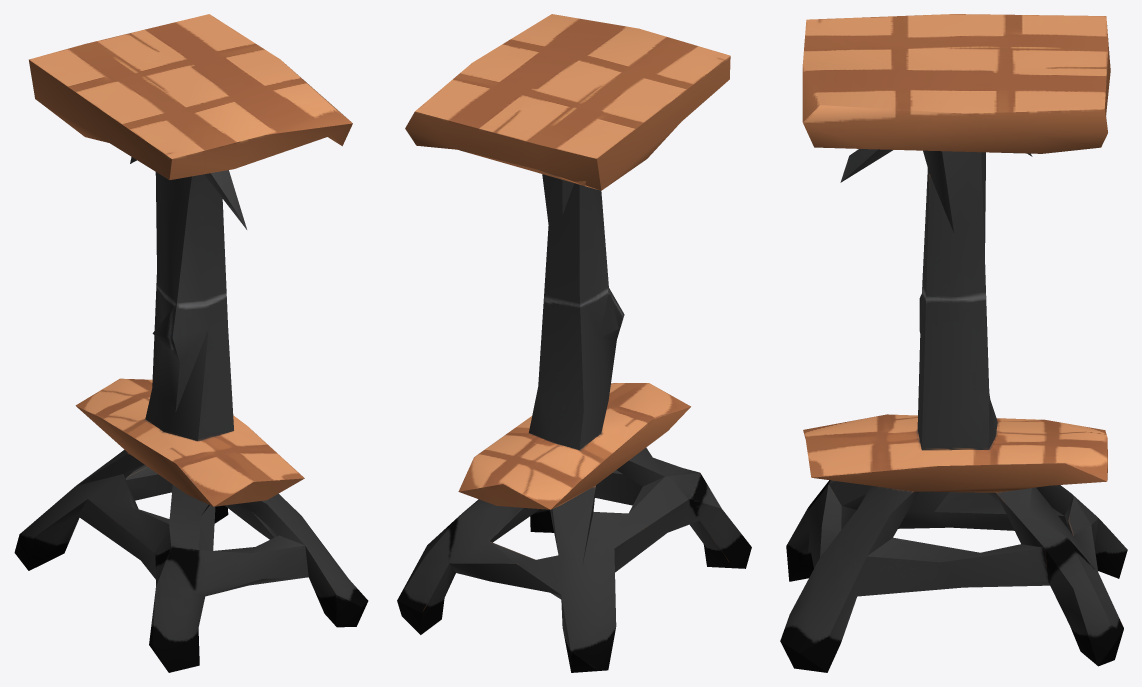
The model's file is brickloft-drafting-stool.glb.
3 renders of one model, left to right at view 1: azimuth 30°, elevation 25°; view 2: azimuth 150°, elevation 25°; view 3: azimuth 270°, elevation 25°, orthographic. The views are drawn at different scales.
Parts seen in each view (by area): view 1: geometry_0; view 2: geometry_0; view 3: geometry_0.
Boxes of the visible parts, box(x1,y1,x2,y2) form: geometry_0: box(14, 14, 368, 672); geometry_0: box(397, 14, 751, 672); geometry_0: box(780, 14, 1127, 672).
Bounding box in the file's own units: 0.4365 × 1 × 0.564.
Materials: 1 (1 with a texture image).
